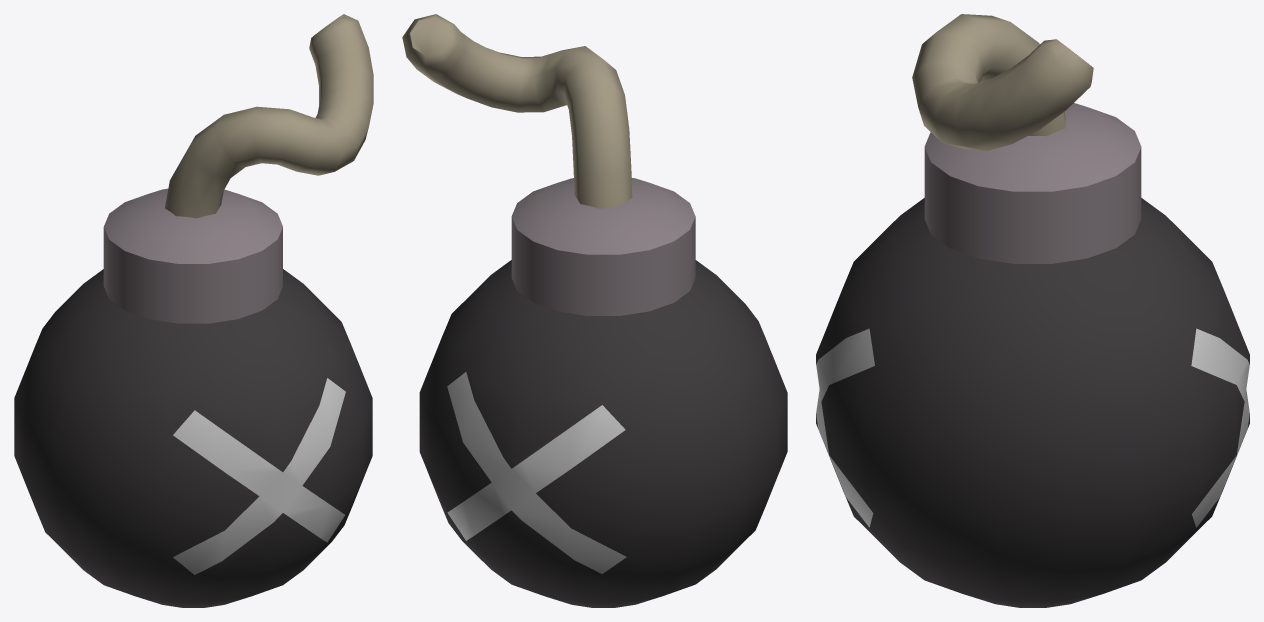
File: Bomb.glb
The picture shows the model from 3 angles, left to right: view 1: azimuth 30°, elevation 25°; view 2: azimuth 150°, elevation 25°; view 3: azimuth 270°, elevation 25°; orthographic projection. The views are drawn at different scales.
Visible parts, largest first — view 1: Prop_Bomb; view 2: Prop_Bomb; view 3: Prop_Bomb.
Boxes of the visible parts, box(x1,y1,x2,y2) form: Prop_Bomb: box(14, 14, 373, 607); Prop_Bomb: box(402, 14, 787, 607); Prop_Bomb: box(816, 14, 1249, 607).
Size of the model in its own units: 0.456 by 0.6954 by 0.4272.
Materials: 1 (1 with a texture image).
